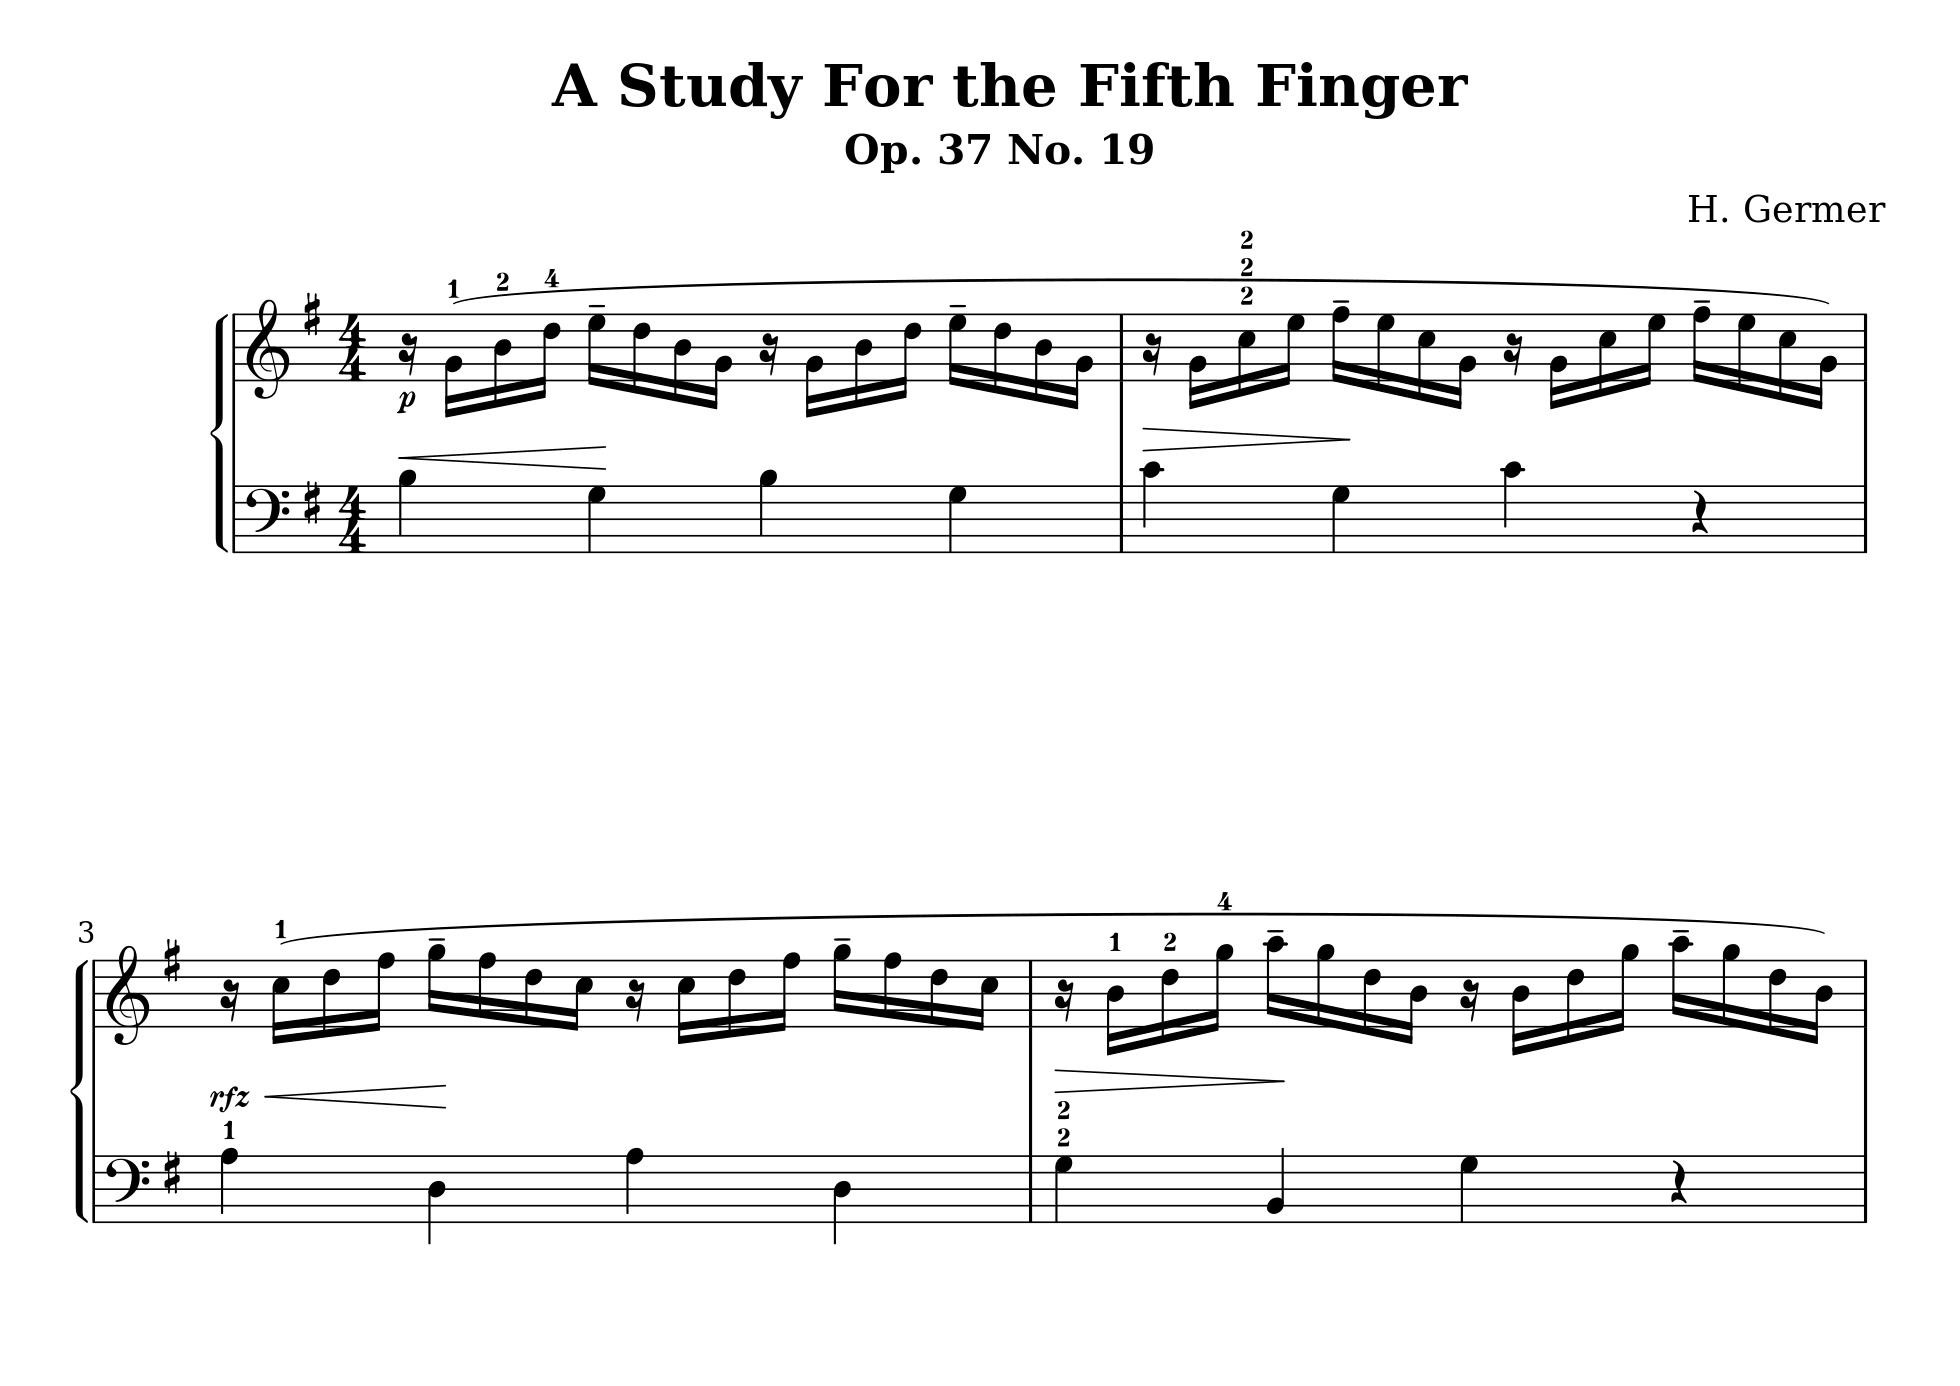1: (273, 916, 286, 940), (1110, 928, 1122, 951)
16_10: (1668, 933, 1695, 1027), (1263, 933, 1288, 1029)
16_2: (1812, 310, 1839, 411), (1068, 310, 1093, 411), (1450, 312, 1476, 411), (706, 312, 732, 409), (442, 310, 463, 418), (804, 310, 825, 418), (1188, 312, 1209, 409), (1548, 312, 1569, 409)
16_4: (1807, 955, 1834, 1045), (1509, 957, 1531, 1057), (1402, 957, 1428, 1045), (852, 310, 874, 409), (1032, 312, 1054, 405), (1104, 957, 1125, 1056), (492, 312, 513, 409), (672, 312, 693, 405)
16_5: (1776, 310, 1798, 405), (673, 957, 697, 1045), (565, 958, 594, 1032), (970, 958, 999, 1032), (1596, 310, 1618, 399), (268, 957, 291, 1045), (1416, 310, 1437, 405), (1236, 310, 1257, 400)
16_6: (529, 310, 561, 400), (892, 310, 922, 400), (1159, 955, 1182, 1045), (991, 310, 1014, 397), (1566, 955, 1587, 1045), (631, 310, 652, 397), (726, 955, 747, 1039), (1362, 955, 1383, 1039), (1767, 955, 1788, 1039), (321, 955, 340, 1041), (928, 955, 949, 1029), (523, 955, 543, 1029)
16_7: (1276, 310, 1305, 388), (1638, 310, 1666, 388), (1374, 309, 1395, 396), (585, 309, 606, 391), (946, 309, 967, 391), (1737, 310, 1756, 397)
16_8: (366, 949, 394, 1033), (772, 949, 801, 1033), (1692, 304, 1713, 385), (882, 949, 903, 1029), (1330, 304, 1350, 385), (477, 949, 496, 1029)
16_9: (1204, 940, 1234, 1033), (1611, 940, 1639, 1033), (1314, 939, 1335, 1030), (829, 940, 850, 1030), (424, 942, 445, 1030), (1720, 940, 1740, 1030)
2: (1237, 283, 1257, 304), (1239, 225, 1255, 249), (1161, 930, 1179, 951), (1056, 1125, 1072, 1147), (1239, 253, 1255, 274)
3: (76, 916, 94, 943)
4: (337, 310, 367, 348), (337, 483, 367, 520), (336, 519, 367, 553), (337, 346, 367, 382), (1216, 888, 1233, 910), (544, 265, 559, 286)
4_10: (1138, 459, 1165, 555), (1500, 459, 1525, 555)
4_2: (1266, 1144, 1287, 1225)
4_4: (831, 1153, 852, 1246), (426, 1153, 447, 1245)
4_7: (946, 483, 969, 553), (1330, 483, 1353, 553), (1053, 1153, 1075, 1224), (1458, 1153, 1480, 1222), (586, 483, 607, 553)
4_8: (622, 1144, 645, 1224), (217, 1144, 238, 1224)
4_9: (396, 466, 417, 553), (757, 466, 778, 553)
Brace: (69, 955, 90, 1222), (210, 310, 229, 550)
Crescendo_hairpin: (399, 444, 607, 471), (265, 1083, 448, 1111)
Diminuendo_hairpin: (1056, 1066, 1288, 1093), (1140, 426, 1353, 451)
Fclef: (243, 481, 291, 553), (103, 1152, 148, 1224)
Gclef: (103, 942, 151, 1047), (244, 295, 289, 399)
Rests16: (624, 976, 646, 1024), (1053, 976, 1075, 1024), (219, 978, 241, 1024), (1459, 976, 1482, 1023), (757, 331, 780, 376), (1141, 331, 1164, 376), (397, 331, 418, 376), (1503, 331, 1524, 376)
Rests4: (1689, 487, 1710, 535), (1668, 1156, 1689, 1204)
Sharp: (160, 1147, 184, 1198), (160, 936, 183, 985), (301, 289, 322, 339), (301, 478, 322, 526)
Single_barline: (1113, 484, 1131, 550), (226, 313, 243, 381), (1857, 486, 1873, 550), (1857, 1156, 1873, 1221), (88, 958, 103, 1026), (1113, 313, 1128, 379), (1023, 960, 1038, 1024), (1023, 1155, 1038, 1219), (228, 484, 241, 552), (1860, 958, 1873, 1026), (88, 1155, 102, 1222), (1860, 313, 1873, 379)
TimeSig: (336, 313, 367, 381), (337, 484, 367, 553)
p: (394, 388, 417, 415)
